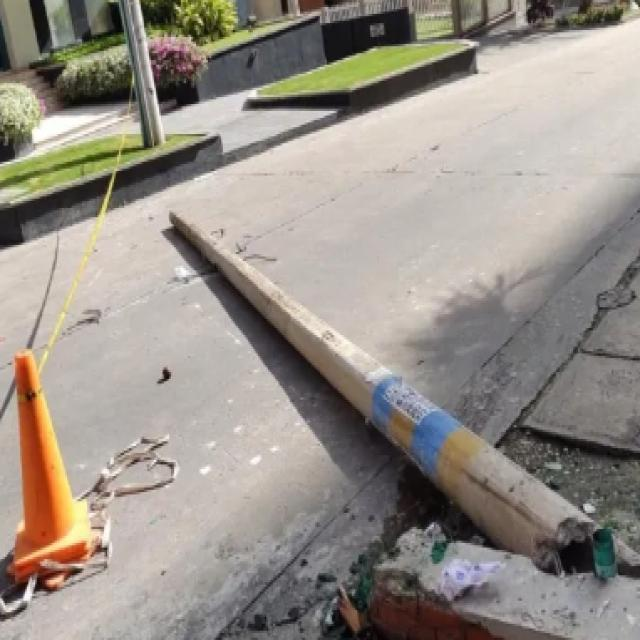light_pole: (166, 205, 640, 576), (116, 0, 172, 145)
